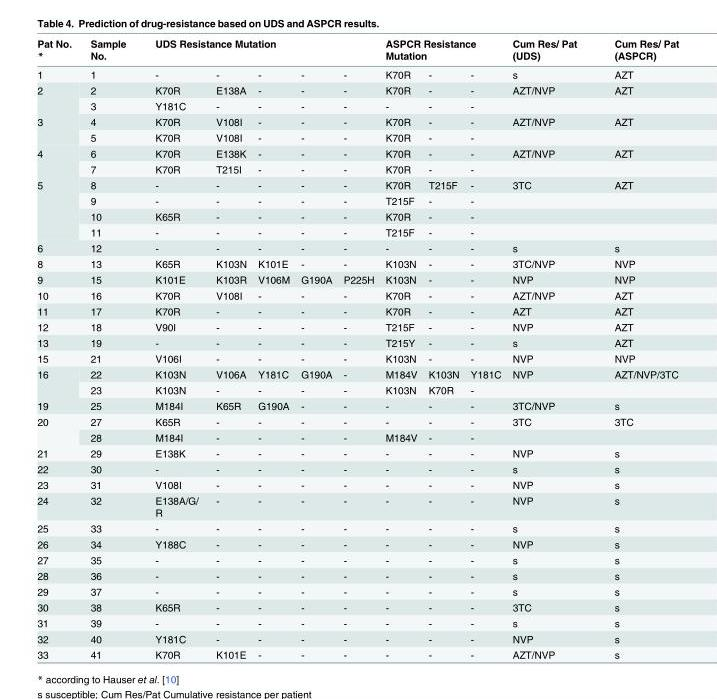table: (36, 37, 678, 660)
table column: (506, 37, 595, 660), (595, 37, 678, 660), (139, 37, 206, 660), (80, 37, 139, 660), (206, 37, 251, 660), (36, 37, 80, 660), (251, 37, 294, 660), (294, 37, 337, 660), (379, 37, 422, 660), (337, 37, 379, 660), (422, 37, 464, 660), (464, 37, 506, 660)
table column header: (36, 37, 678, 82)
table row: (36, 492, 678, 520), (36, 37, 678, 64), (36, 64, 678, 82), (36, 97, 678, 113), (36, 113, 678, 129), (36, 129, 678, 145), (36, 160, 678, 176), (36, 176, 678, 192), (36, 192, 678, 208), (36, 208, 678, 224), (36, 239, 678, 255), (36, 255, 678, 271), (36, 271, 678, 287), (36, 302, 678, 318), (36, 318, 678, 334), (36, 334, 678, 350), (36, 350, 678, 366), (36, 381, 678, 397), (36, 397, 678, 413), (36, 413, 678, 429), (36, 429, 678, 445), (36, 460, 678, 476), (36, 476, 678, 492), (36, 535, 678, 551), (36, 551, 678, 567), (36, 567, 678, 583), (36, 583, 678, 599), (36, 614, 678, 630), (36, 630, 678, 646), (36, 82, 678, 97), (36, 145, 678, 160), (36, 224, 678, 239), (36, 287, 678, 302), (36, 366, 678, 381), (36, 445, 678, 460), (36, 520, 678, 535), (36, 599, 678, 614), (36, 646, 678, 660)
table spanning cell: (139, 37, 379, 64), (506, 37, 595, 82), (595, 37, 678, 82), (379, 37, 506, 64), (36, 176, 80, 239), (80, 37, 139, 82), (36, 37, 80, 82), (36, 113, 80, 145), (36, 413, 80, 445), (36, 82, 80, 113), (36, 145, 80, 176), (36, 366, 80, 397)
